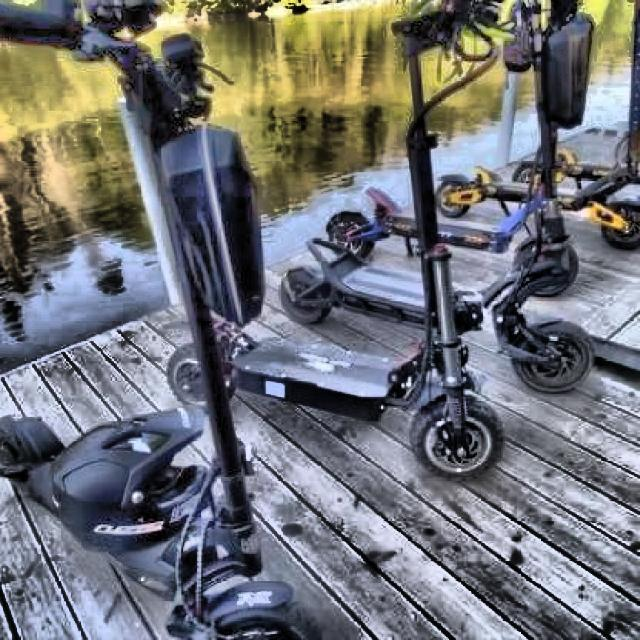bike: (280, 182, 597, 396)
car: (0, 14, 325, 639)
